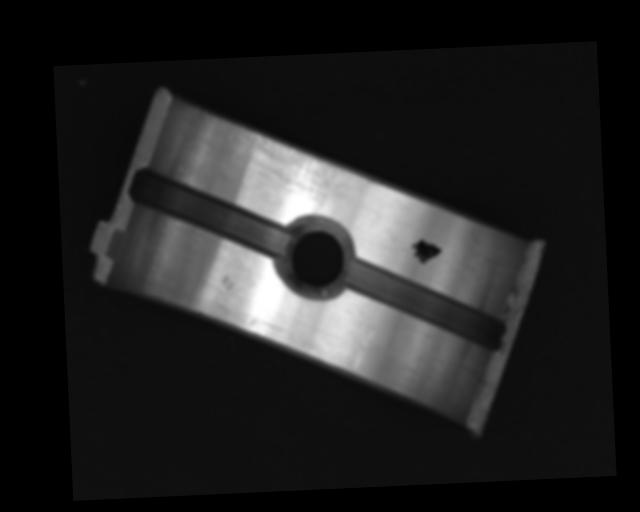blot: (409, 237, 443, 265)
bruise: (220, 273, 237, 292)
gap: (346, 253, 506, 356), (129, 162, 289, 259)
hole: (278, 214, 352, 299)
nick: (351, 319, 383, 369)
scratch: (231, 118, 364, 210)
